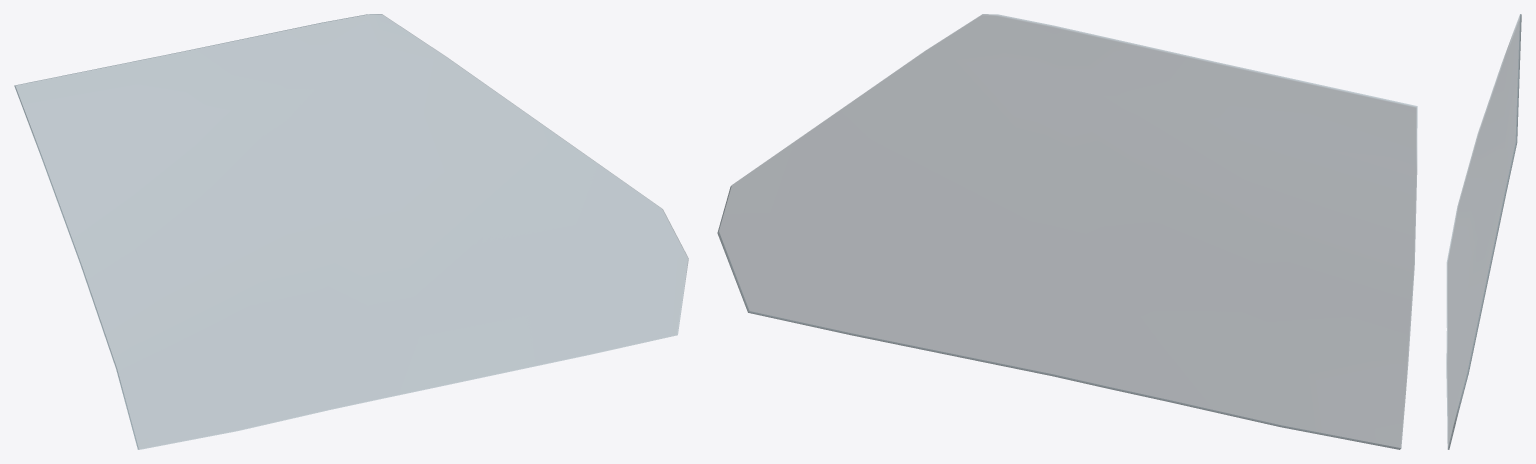
The picture shows the model from 3 angles, left to right: view 1: azimuth 30°, elevation 25°; view 2: azimuth 150°, elevation 25°; view 3: azimuth 270°, elevation 25°; orthographic projection. The views are drawn at different scales.
Visible parts, largest first — view 1: SM_NissanPatrol_Door_FR_Glass_Ext2; view 2: SM_NissanPatrol_Door_FR_Glass_Ext2; view 3: SM_NissanPatrol_Door_FR_Glass_Ext2.
Boxes of the visible parts, x1,y1,x2,y2 form: SM_NissanPatrol_Door_FR_Glass_Ext2: [14, 14, 688, 449]; SM_NissanPatrol_Door_FR_Glass_Ext2: [717, 14, 1417, 449]; SM_NissanPatrol_Door_FR_Glass_Ext2: [1446, 14, 1521, 449].
Size of the model in its own units: 0.9364 by 0.5124 by 0.1471.
